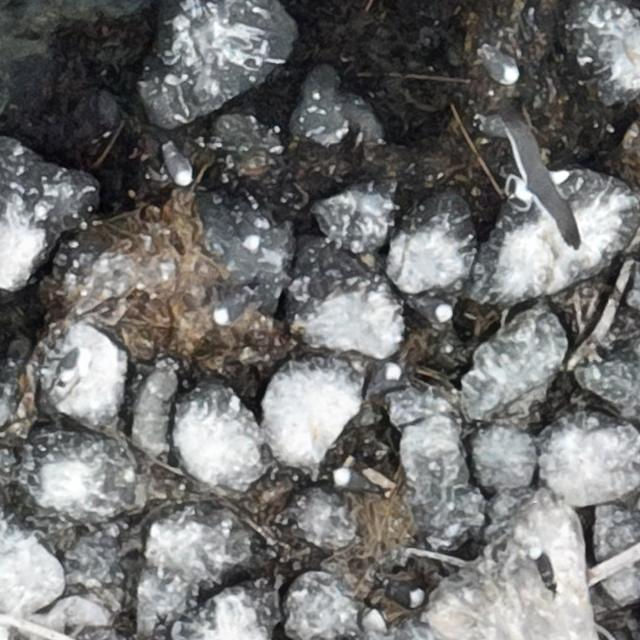F: (509, 117, 576, 234)
umineko: (54, 350, 88, 396), (413, 295, 453, 324), (369, 363, 402, 397), (333, 468, 379, 492), (234, 213, 260, 250), (166, 150, 192, 184), (489, 55, 520, 83), (389, 584, 424, 606), (216, 300, 248, 324), (534, 553, 554, 588)
